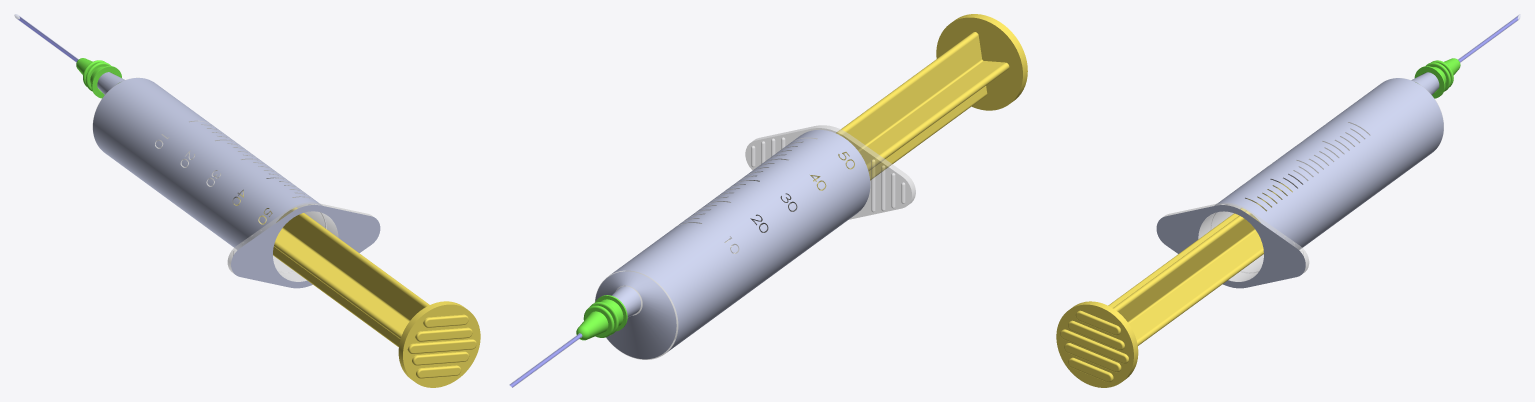
The model's file is Syringe.glb.
3 renders of one model, left to right at view 1: azimuth 30°, elevation 25°; view 2: azimuth 150°, elevation 25°; view 3: azimuth 330°, elevation 25°, orthographic. The views are drawn at different scales.
Parts seen in each view (by area): view 1: Vaccine Body-1, Vaccine Plunger-1, Vaccine last one-1; view 2: Vaccine Body-1, Vaccine Plunger-1, Vaccine last one-1; view 3: Vaccine Body-1, Vaccine Plunger-1, Vaccine last one-1.
Boxes of the visible parts, left/top/right/bottom form: Vaccine Body-1: left=92, top=72, right=380, bottom=288; Vaccine Plunger-1: left=234, top=191, right=480, bottom=387; Vaccine last one-1: left=14, top=14, right=121, bottom=98; Vaccine Body-1: left=595, top=125, right=915, bottom=359; Vaccine Plunger-1: left=810, top=14, right=1027, bottom=190; Vaccine last one-1: left=509, top=295, right=627, bottom=387; Vaccine Body-1: left=1156, top=72, right=1443, bottom=288; Vaccine Plunger-1: left=1056, top=182, right=1292, bottom=387; Vaccine last one-1: left=1414, top=14, right=1520, bottom=98.
Bounding box in the file's own units: 0.0499 × 0.026 × 0.2479.
